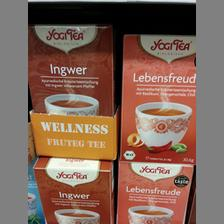Tee: (120, 30, 196, 164), (27, 23, 115, 116), (32, 155, 114, 223), (114, 158, 194, 222)
